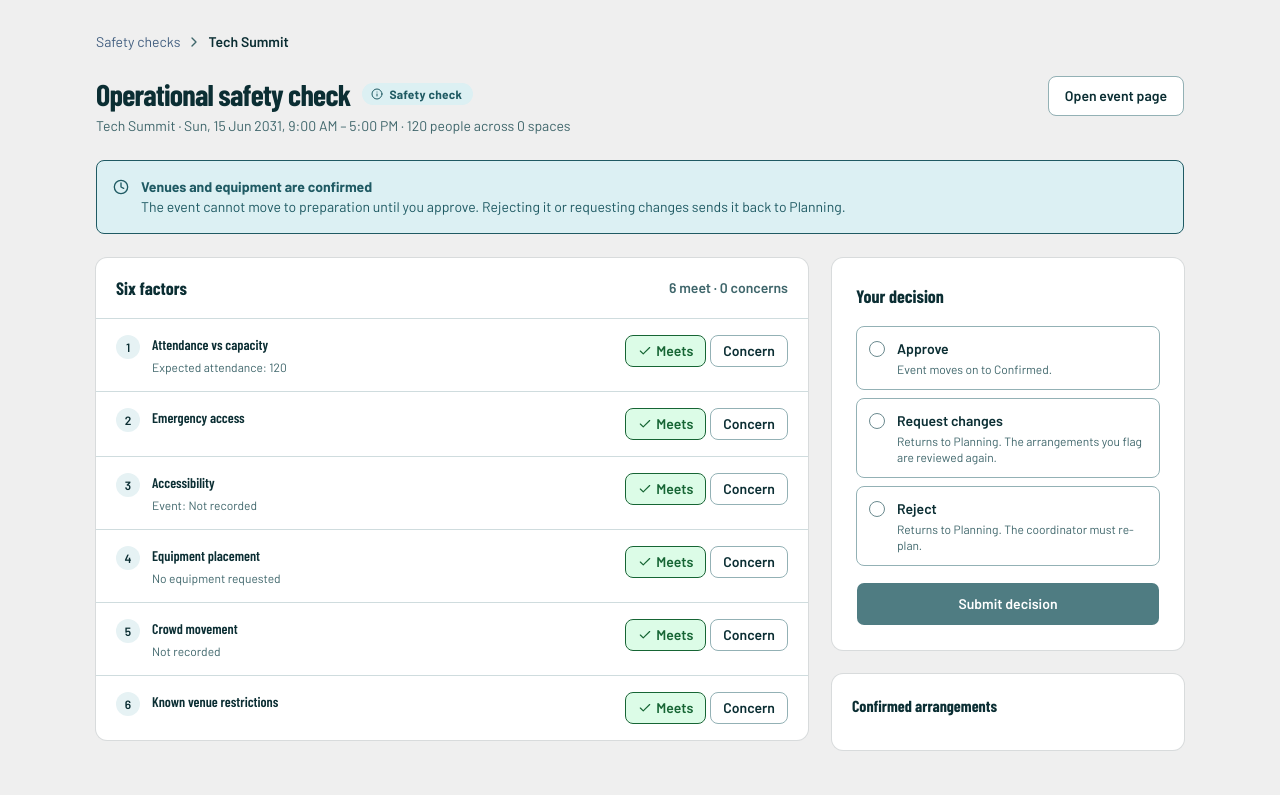
Test: SCRUM-99/AC3 + AC4 review an event › SCRUM-142/AC3 asks what needs to change when a factor is marked Concern, with an icon and the word, and counts it
Click the button "Concern" in the row of "No equipment requested" at (749, 562), box [710,546,788,578]
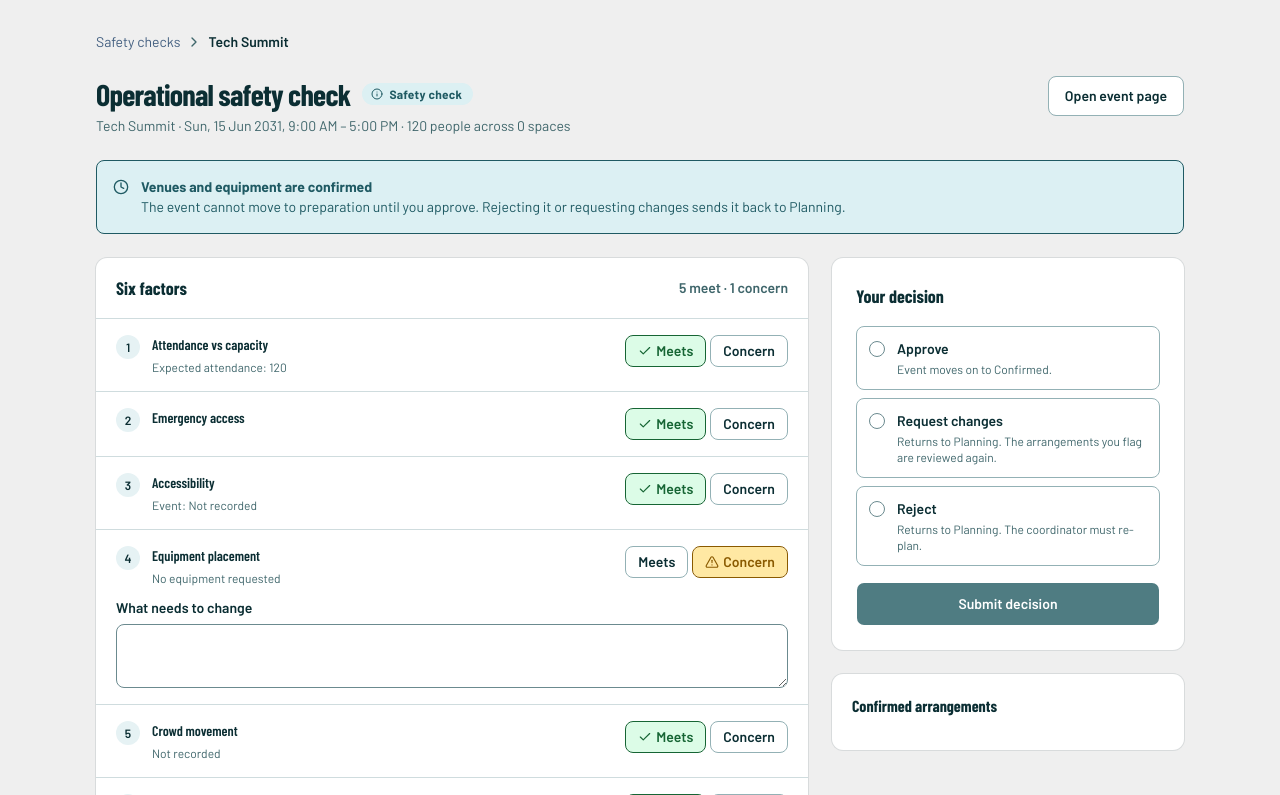
Result: the text box labelled "What needs to change" is shown at [116,624,788,688]
Result: the element "Six factors" shows "5 meet · 1 concern" at [679,279,788,296]
Click the button "Meets" in the row of "No equipment requested" at (657, 562), box [625,546,688,578]
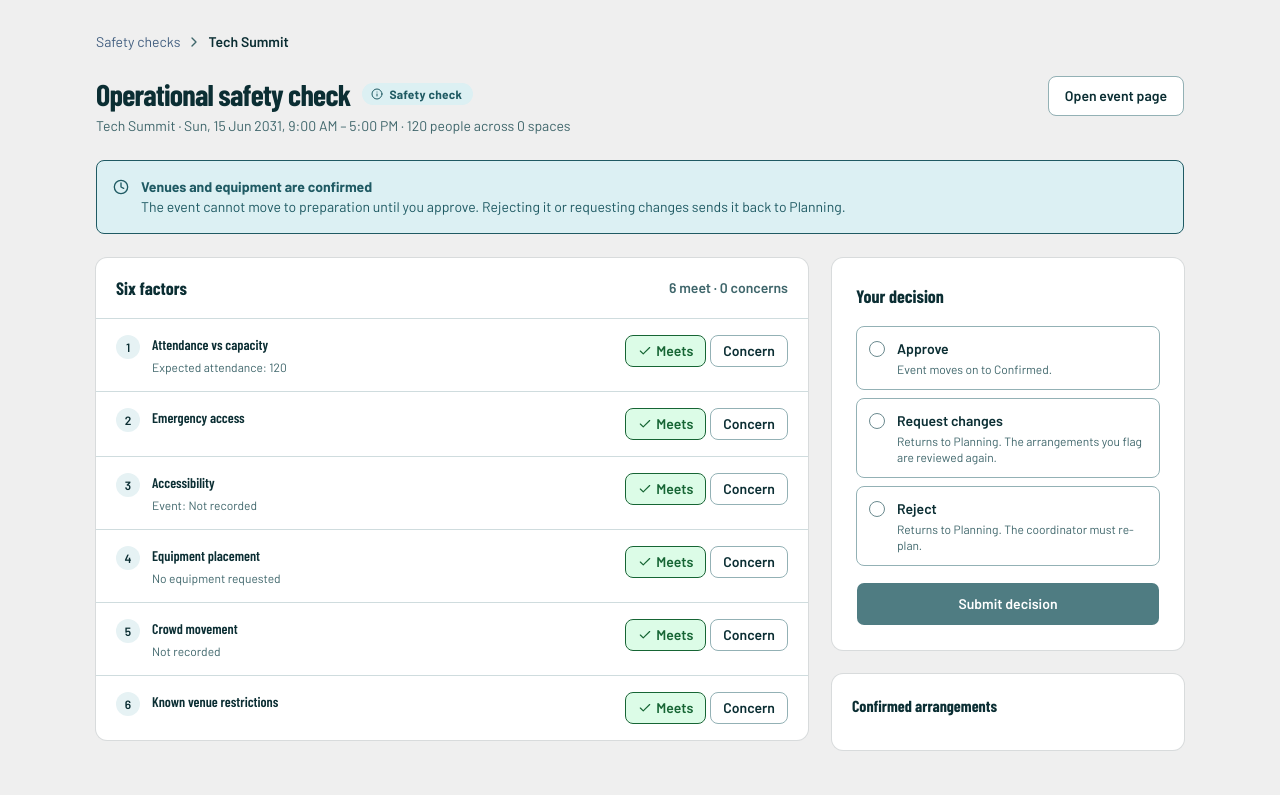
Result: the label labelled "What needs to change" is gone
